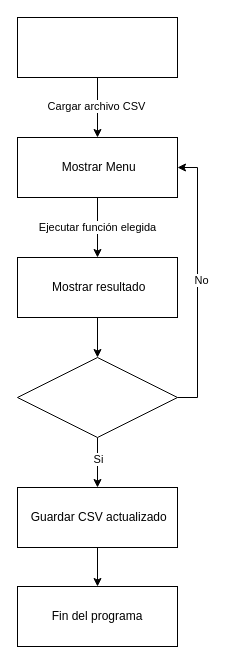
The diagram is 225 pixels wide and 664 high, and some of its shapes have lost their labels. The shapes that lost their labels are listed below. From the top down, each one's box as (x1, y1, x2, y2) in pixels, then its label:
(16, 16, 178, 78): Iniciar programa
(16, 356, 178, 438): ¿Salir del sistema?
